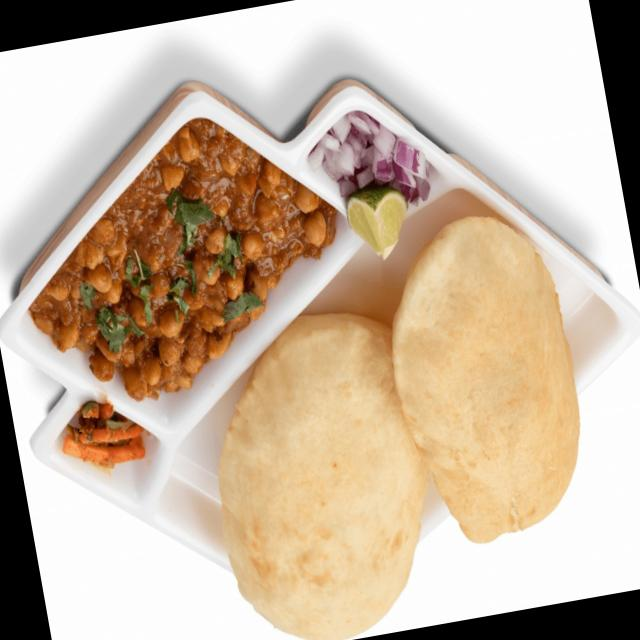Bhatura: (189, 293, 458, 640), (366, 202, 597, 556)
Chole: (3, 100, 358, 420)
